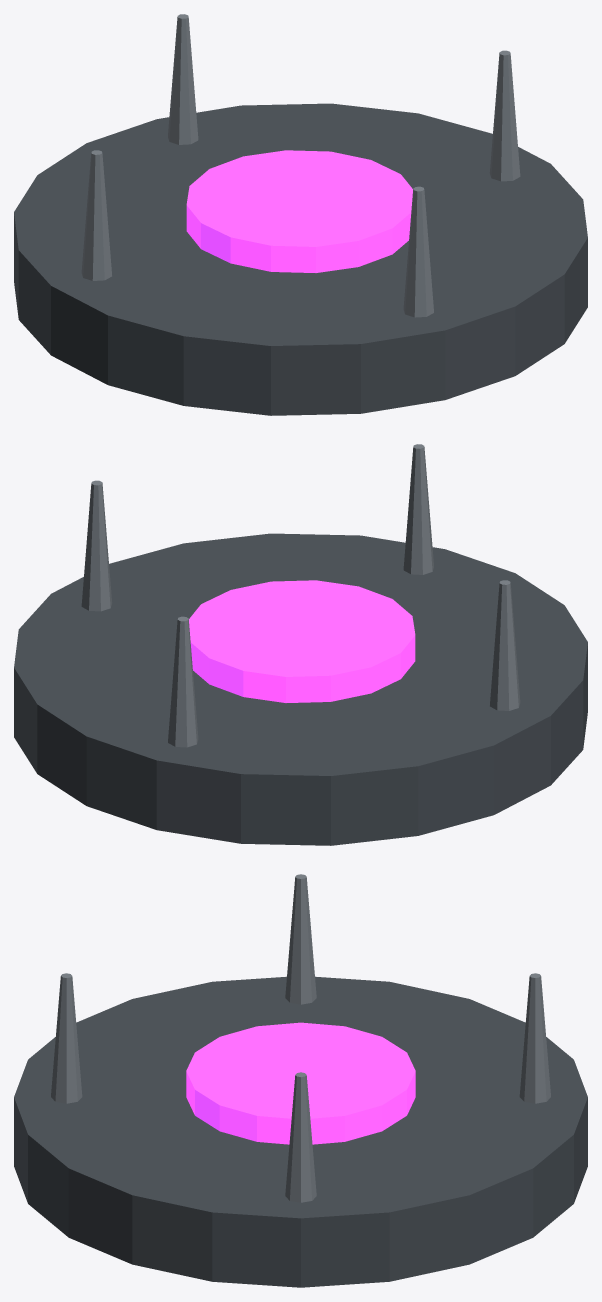
The model's file is PROP_SlowTrap_v01.glb.
The picture shows the model from 3 angles, top to bottom: view 1: azimuth 30°, elevation 25°; view 2: azimuth 150°, elevation 25°; view 3: azimuth 270°, elevation 25°; orthographic projection.
Parts seen in each view (by area): view 1: MESH_TrapBase, MESH_Probe_04, MESH_Probe_01, MESH_Probe_02, MESH_Probe_03; view 2: MESH_TrapBase, MESH_Probe_02, MESH_Probe_01, MESH_Probe_04, MESH_Probe_03; view 3: MESH_TrapBase, MESH_Probe_01, MESH_Probe_03, MESH_Probe_02, MESH_Probe_04.
Part boxes in pixels (box(x1,y1,x2,y2)): MESH_TrapBase: box(14, 103, 587, 415); MESH_Probe_04: box(403, 186, 433, 317); MESH_Probe_01: box(489, 50, 520, 181); MESH_Probe_02: box(168, 14, 198, 144); MESH_Probe_03: box(81, 150, 111, 280); MESH_TrapBase: box(14, 533, 587, 845); MESH_Probe_02: box(168, 616, 198, 747); MESH_Probe_01: box(81, 480, 112, 611); MESH_Probe_04: box(403, 444, 433, 574); MESH_Probe_03: box(490, 580, 520, 710); MESH_TrapBase: box(14, 976, 587, 1287); MESH_Probe_01: box(285, 1072, 316, 1202); MESH_Probe_03: box(285, 874, 316, 1004); MESH_Probe_02: box(519, 973, 550, 1103); MESH_Probe_04: box(51, 973, 82, 1103).
Size of the model in its own units: 0.6 by 0.22 by 0.6.
